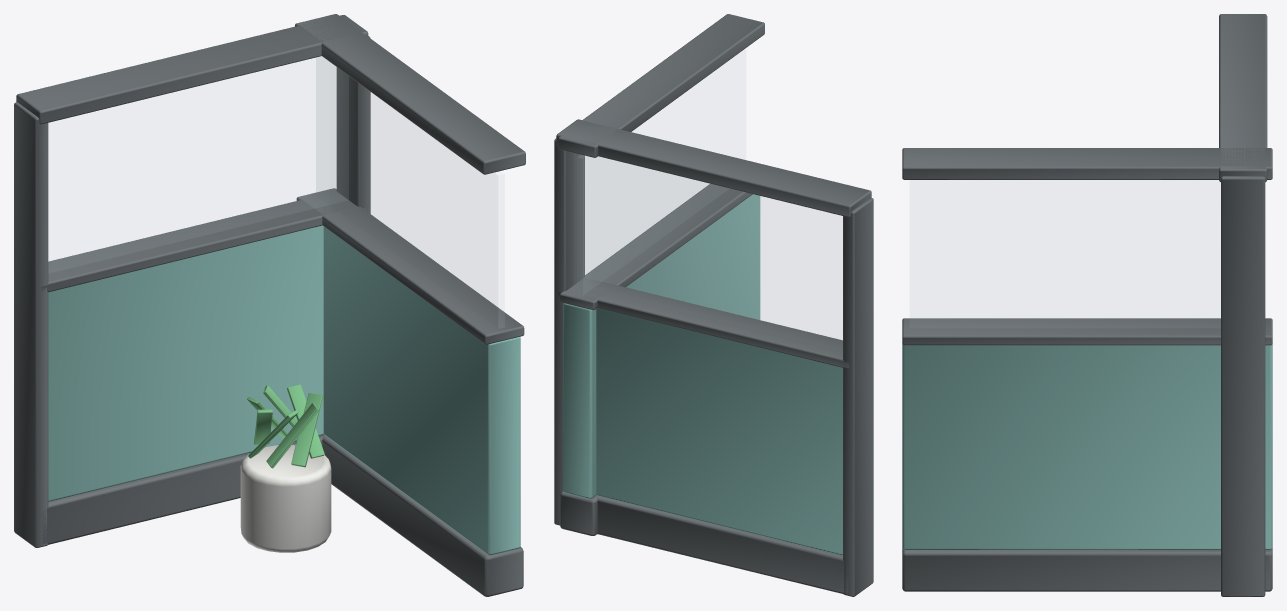
The model's file is sala_esquina.glb.
3 renders of one model, left to right at view 1: azimuth 30°, elevation 25°; view 2: azimuth 150°, elevation 25°; view 3: azimuth 270°, elevation 25°, orthographic. The views are drawn at different scales.
Parts seen in each view (by area): view 1: pared_panel, esq_panel, pared_vidrio, esq_vidrio, pared_perfil-0.49, pared_remate, esq_remate, esq_canto, esq_zocalo, pared_canto, pared_zocalo, maceta (+4 smaller); view 2: pared_panel, pared_vidrio, esq_panel, pared_perfil-0.49, pared_zocalo, pared_remate, esq_remate, pared_canto, esq_vidrio, esq_canto, pared_perfil0.49, esq_zocalo; view 3: esq_panel, esq_vidrio, pared_perfil0.49, esq_zocalo, esq_remate, esq_canto, pared_remate.
Part boxes in pixels (left/top/right/bottom): pared_panel: left=48, top=225, right=323, bottom=501; esq_panel: left=323, top=226, right=520, bottom=555; pared_vidrio: left=49, top=57, right=328, bottom=272; esq_vidrio: left=330, top=63, right=504, bottom=327; pared_perfil-0.49: left=14, top=102, right=48, bottom=547; pared_remate: left=16, top=15, right=368, bottom=124; esq_remate: left=295, top=14, right=525, bottom=174; esq_canto: left=296, top=188, right=524, bottom=344; esq_zocalo: left=322, top=436, right=523, bottom=596; pared_canto: left=41, top=193, right=366, bottom=292; pared_zocalo: left=42, top=435, right=324, bottom=544; maceta: left=240, top=445, right=331, bottom=552; pared_panel: left=596, top=308, right=842, bottom=555; pared_vidrio: left=574, top=154, right=842, bottom=350; esq_panel: left=563, top=194, right=760, bottom=498; pared_perfil-0.49: left=843, top=197, right=873, bottom=596; pared_zocalo: left=595, top=495, right=848, bottom=593; pared_remate: left=556, top=119, right=871, bottom=217; esq_remate: left=558, top=14, right=764, bottom=157; pared_canto: left=558, top=278, right=849, bottom=368; esq_vidrio: left=577, top=49, right=745, bottom=295; esq_canto: left=559, top=183, right=752, bottom=310; pared_perfil0.49: left=554, top=138, right=584, bottom=525; esq_zocalo: left=560, top=491, right=597, bottom=535; esq_panel: left=902, top=344, right=1272, bottom=549; esq_vidrio: left=910, top=180, right=1220, bottom=327; pared_perfil0.49: left=1221, top=176, right=1265, bottom=596; esq_zocalo: left=902, top=548, right=1272, bottom=591; esq_remate: left=902, top=148, right=1272, bottom=179; esq_canto: left=902, top=318, right=1272, bottom=345; pared_remate: left=1219, top=14, right=1267, bottom=181.
Bounding box in the file's own units: 1.02 × 1.27 × 1.
